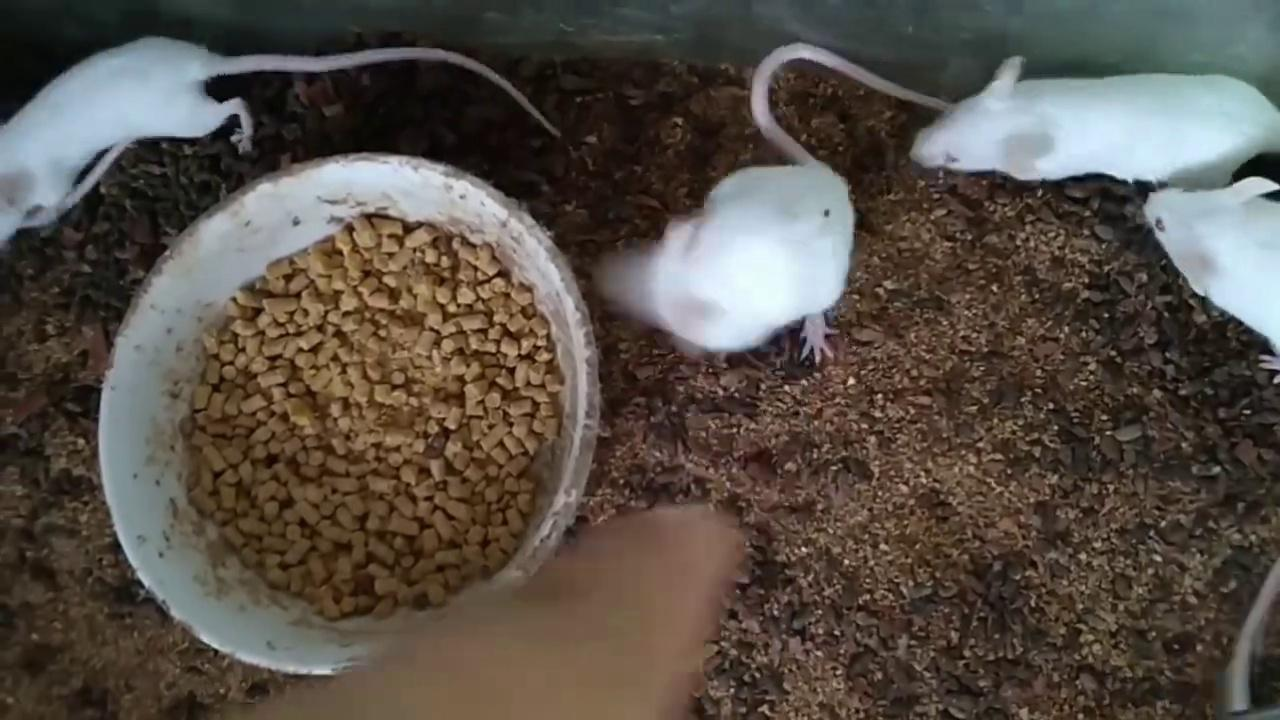rat: (0, 37, 560, 246), (599, 43, 947, 363), (911, 55, 1280, 190), (1148, 176, 1280, 385)
